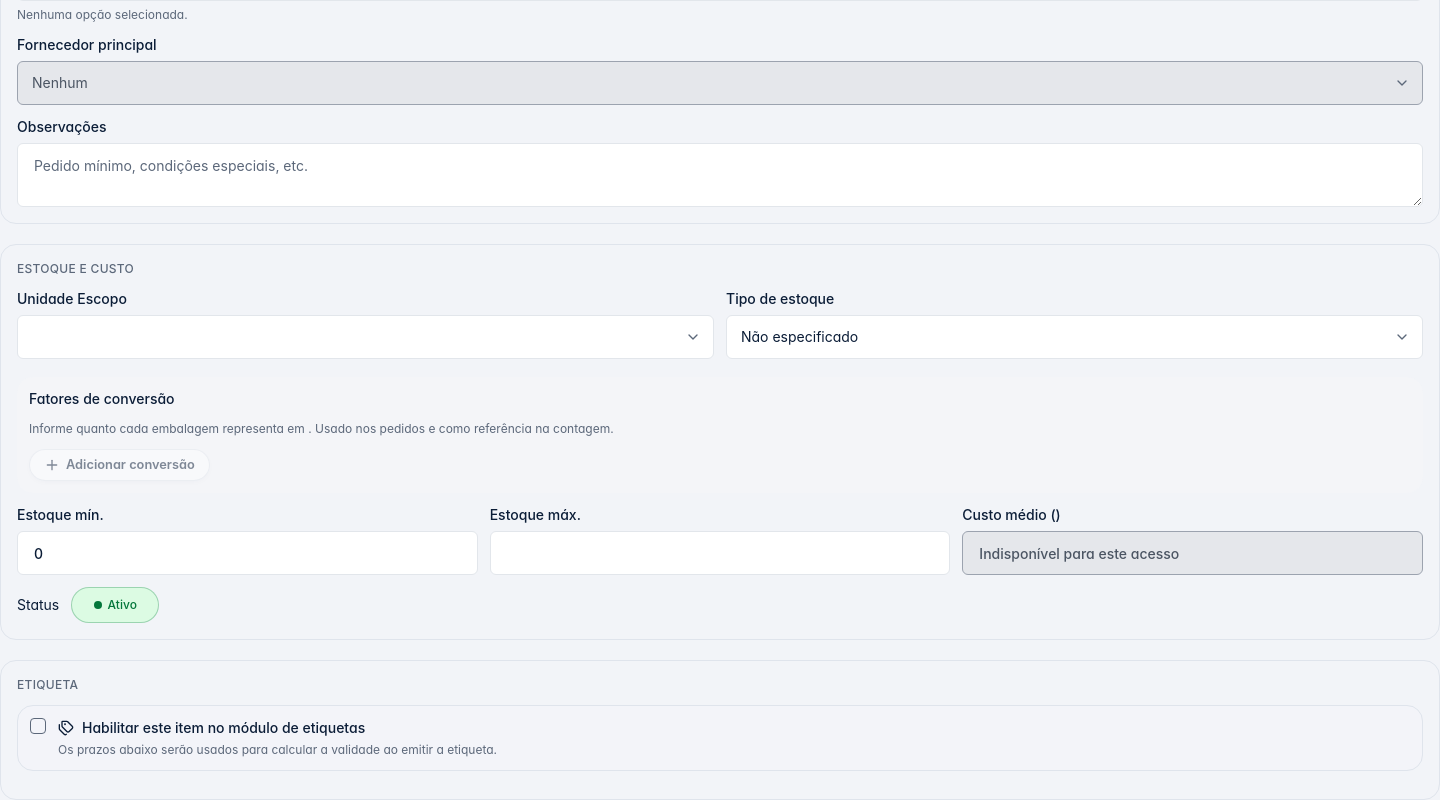
Scenario: permite ao administrador configurar etiqueta também no cadastro de insumo
(page scrolled)
Expected: the checkbox "Habilitar este item no módulo de etiquetas" is shown, [58,719,365,736]
Click the checkbox named "Habilitar este item": (38, 726) [30,718,46,734]
(page scrolled)
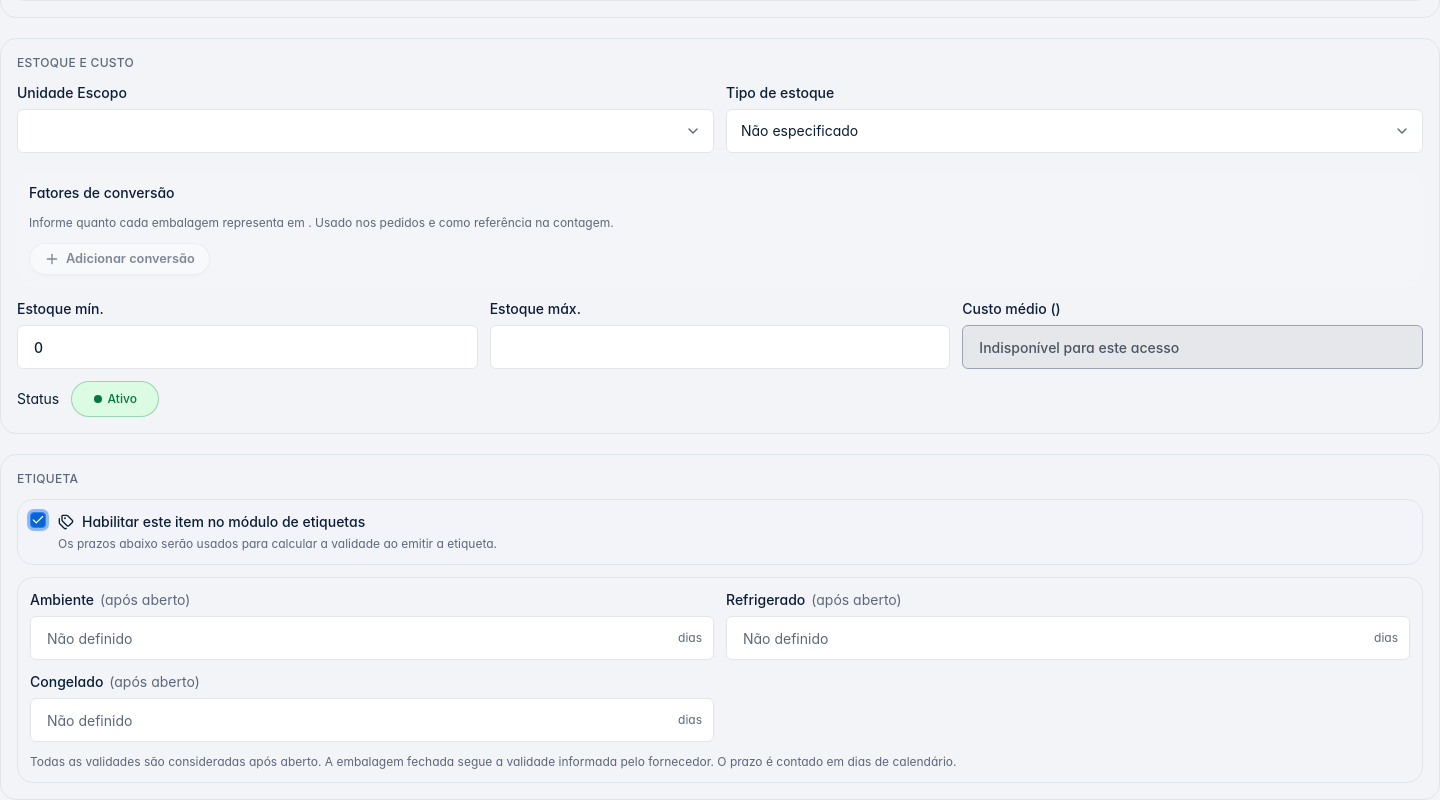
Now the field labelled "Ambiente (após aberto)" is shown, box [30,616,714,660]
Now the field labelled "Refrigerado (após aberto)" is shown, box [726,616,1410,660]
Now the field labelled "Congelado (após aberto)" is shown, box [30,698,714,742]
